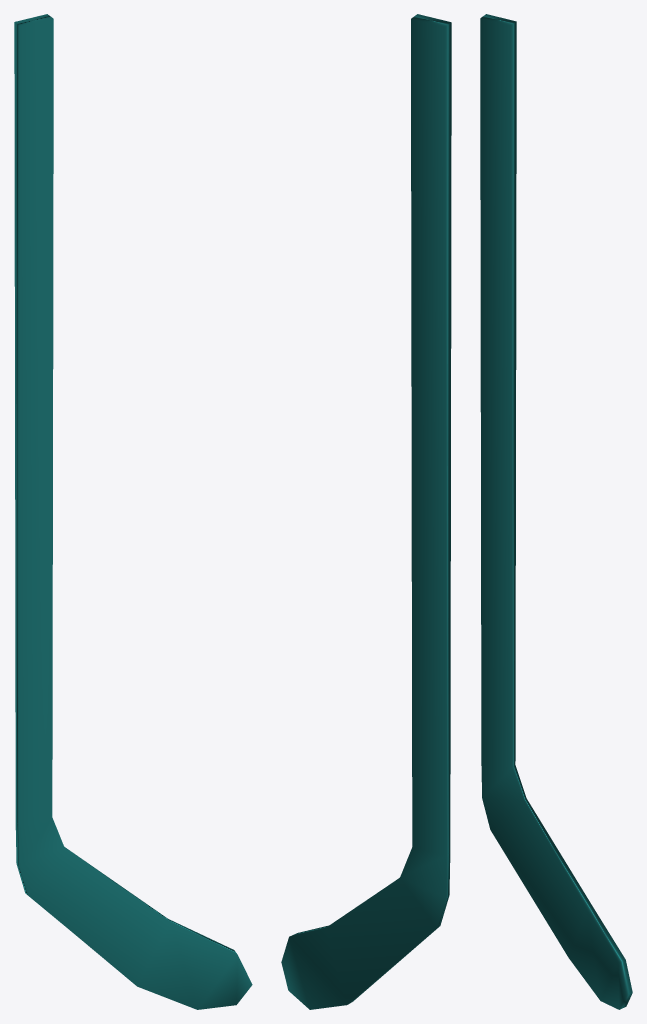
File: hockey_stick_collider.fbx
3 renders of one model, left to right at view 1: azimuth 30°, elevation 25°; view 2: azimuth 150°, elevation 25°; view 3: azimuth 330°, elevation 25°, orthographic. The views are drawn at different scales.
Visible parts, largest first — view 1: hockey_stick_collider; view 2: hockey_stick_collider; view 3: hockey_stick_collider.
Boxes of the visible parts, x1,y1,x2,y2 form: hockey_stick_collider: (14, 14, 252, 1009); hockey_stick_collider: (281, 14, 451, 1009); hockey_stick_collider: (480, 14, 632, 1009).
Size of the model in its own units: 29.57 by 144 by 11.56.
